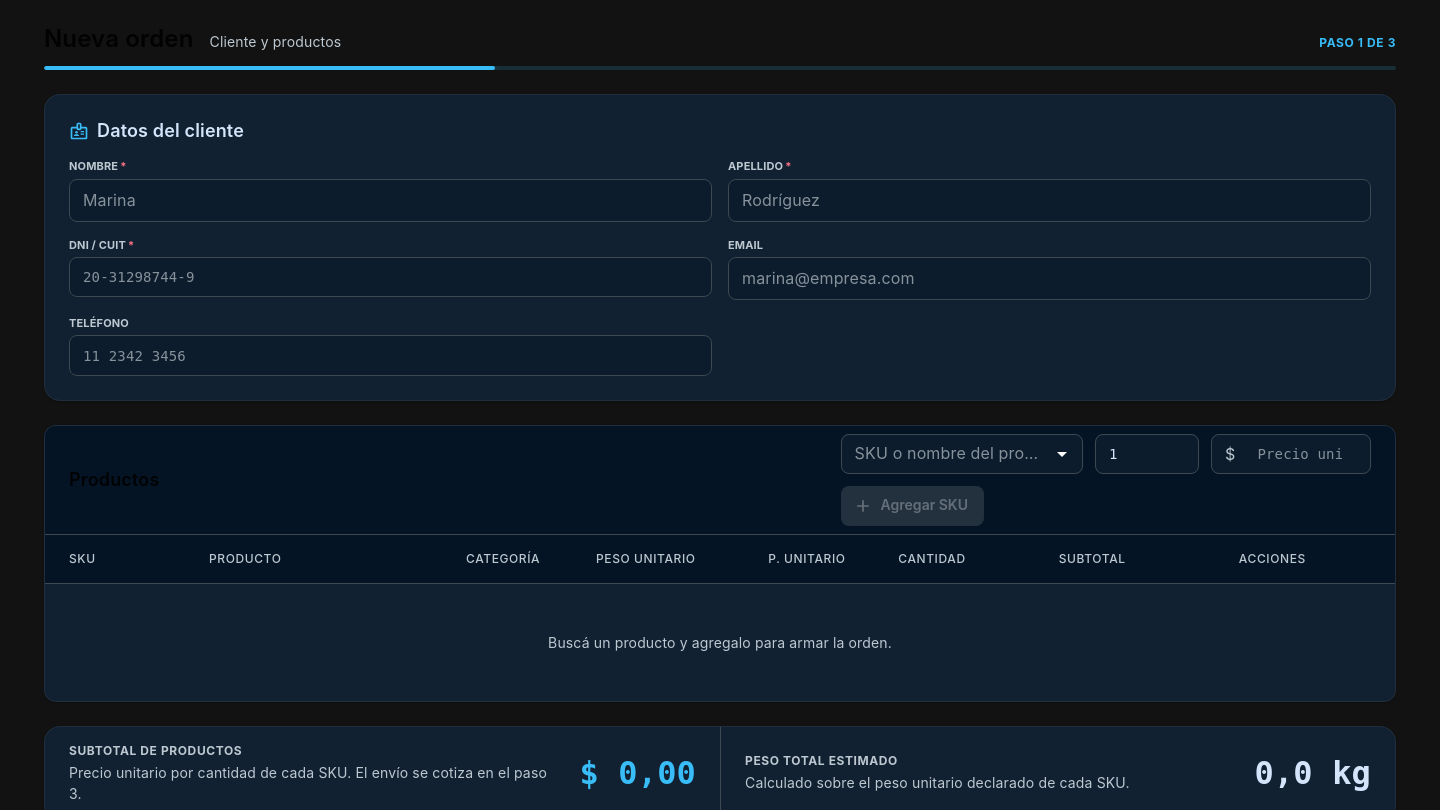
NewOrderPage › will not add a line until quantity and price are valid
Type "PX-9021" into the dropdown named "Buscar por SKU o nombre" at {"x": 945, "y": 454}, box [847, 440, 1044, 468]
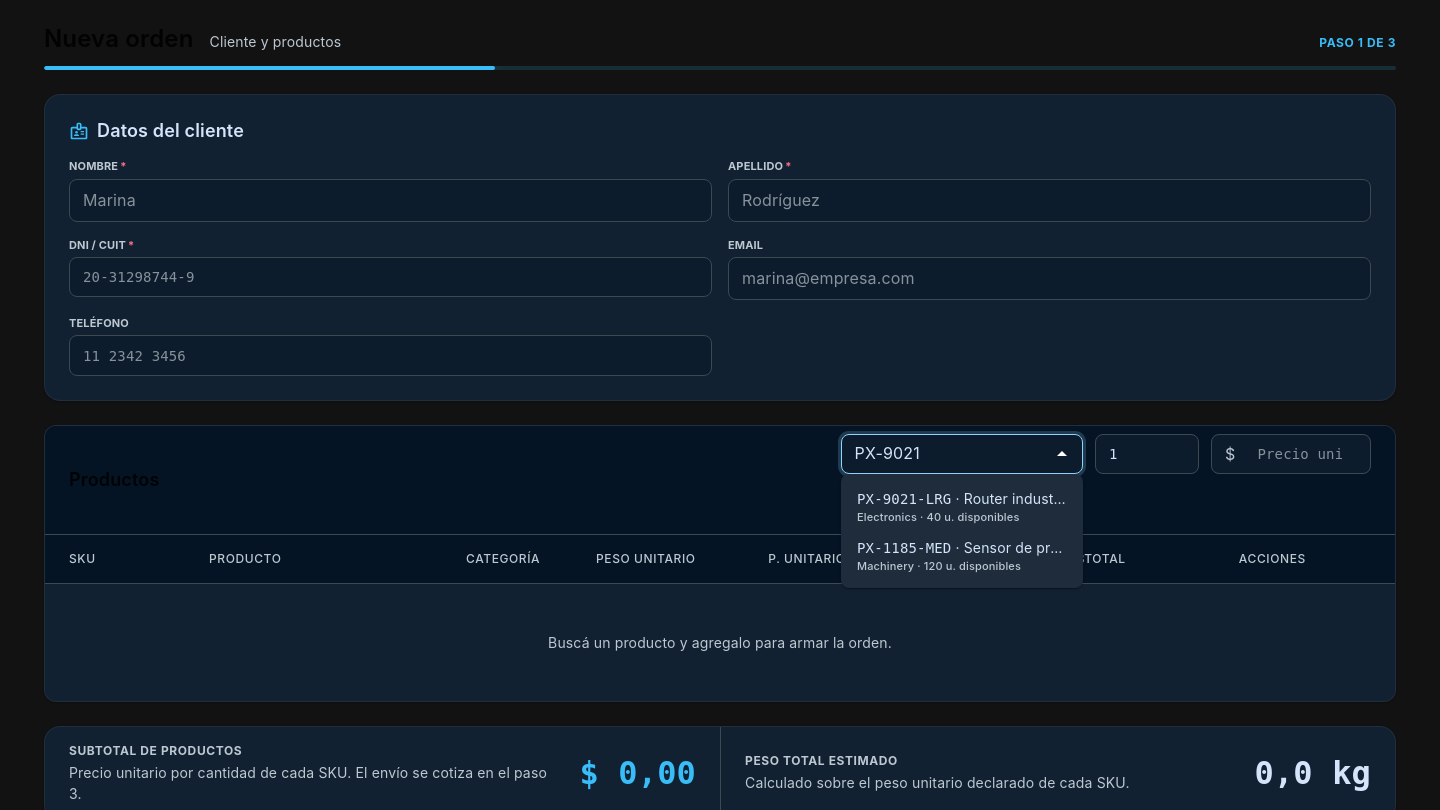
Click the option "PX-9021" at {"x": 962, "y": 506}, box [841, 482, 1083, 531]
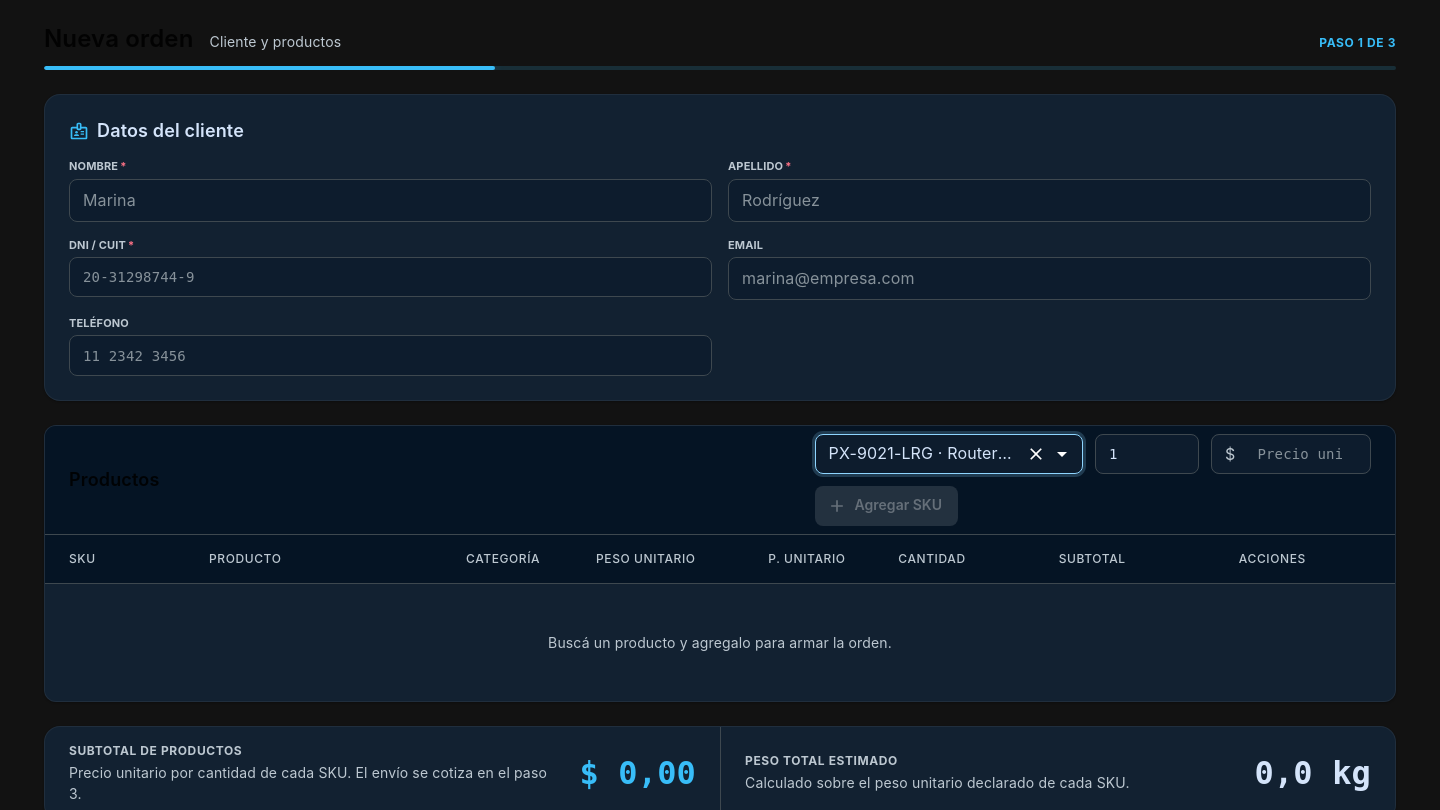
Check: the button "Agregar SKU" is disabled, box [815, 486, 958, 526]
Type "120000" into the number field labelled "Precio unitario" at {"x": 1307, "y": 454}, box [1243, 434, 1371, 474]
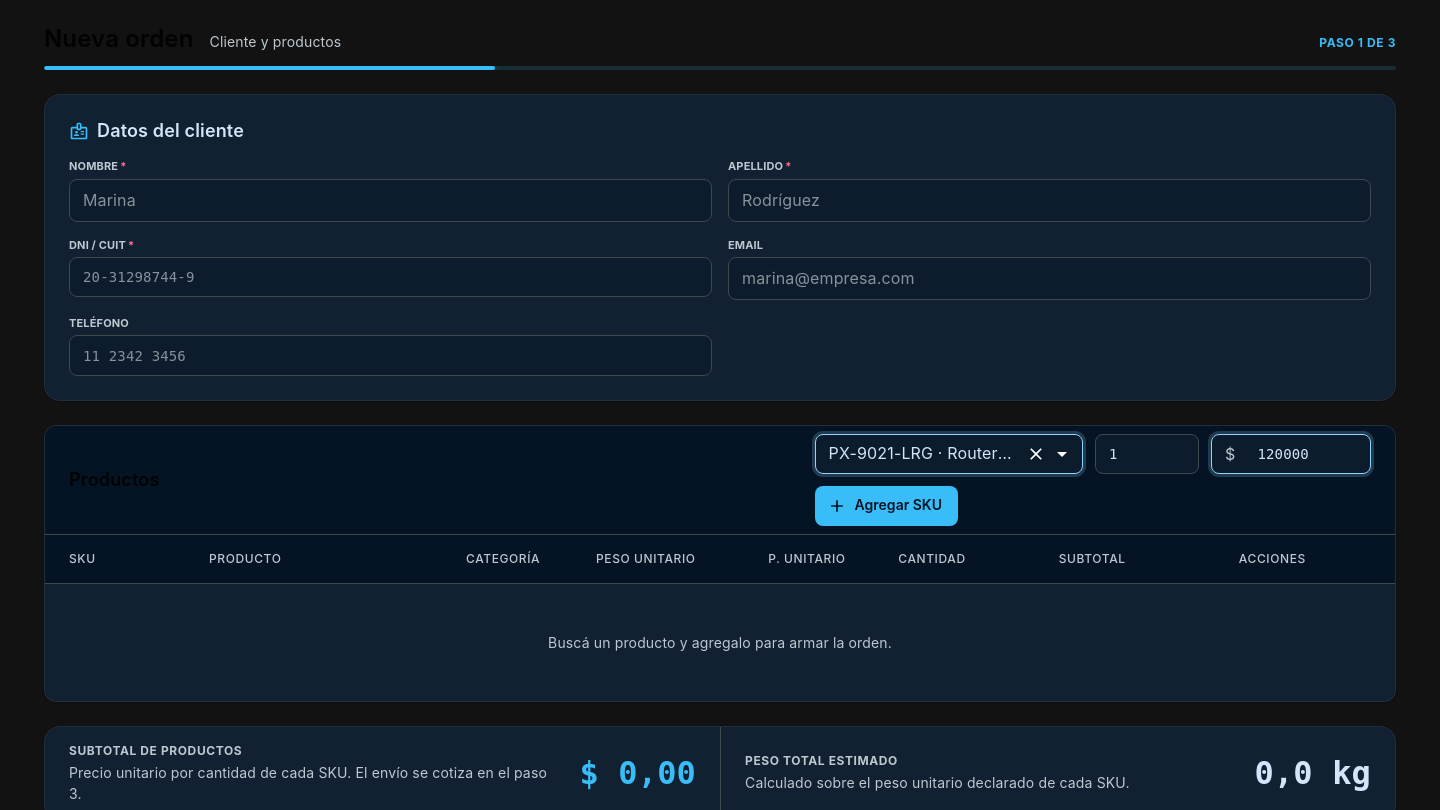
Check: the button "Agregar SKU" is enabled, box [815, 486, 958, 526]
